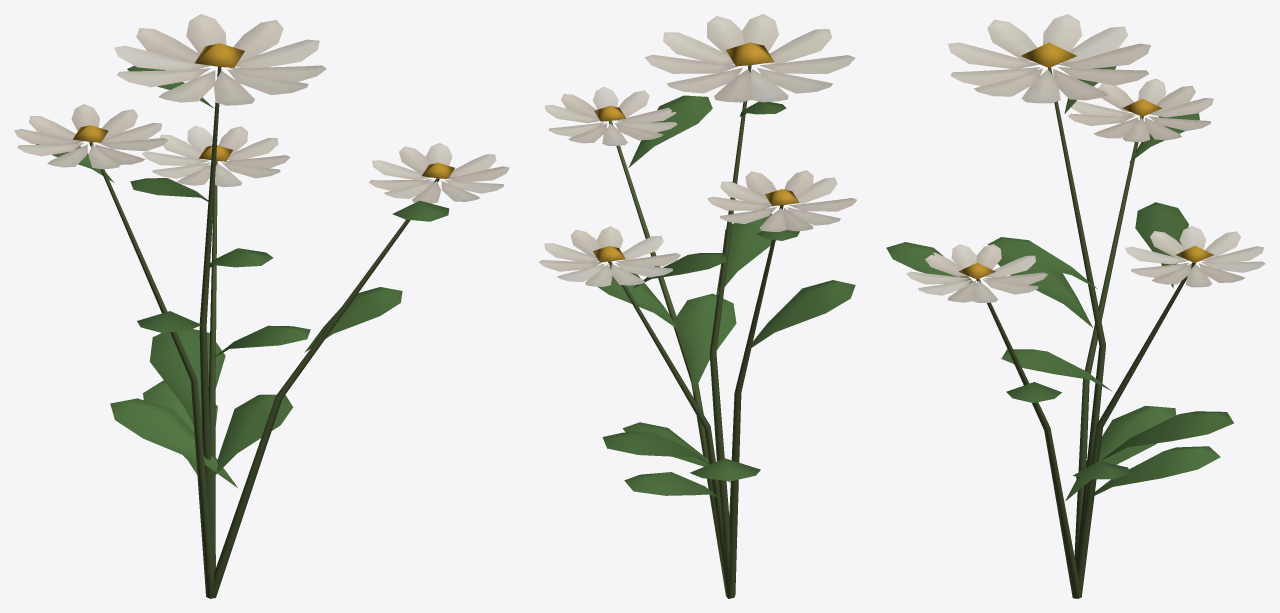
The model's file is oxeye_daisy.glb.
3 views of the same model, side by side, from view 1: azimuth 30°, elevation 25°; view 2: azimuth 150°, elevation 25°; view 3: azimuth 270°, elevation 25° (orthographic). The views are drawn at different scales.
Visible parts, largest first — view 1: oxeye_daisy; view 2: oxeye_daisy; view 3: oxeye_daisy.
Boxes of the visible parts, x1,y1,x2,y2 form: oxeye_daisy: [14, 14, 509, 598]; oxeye_daisy: [538, 14, 856, 598]; oxeye_daisy: [886, 14, 1265, 598].
Bounding box in the file's own units: 0.4287 × 0.5919 × 0.3687.
